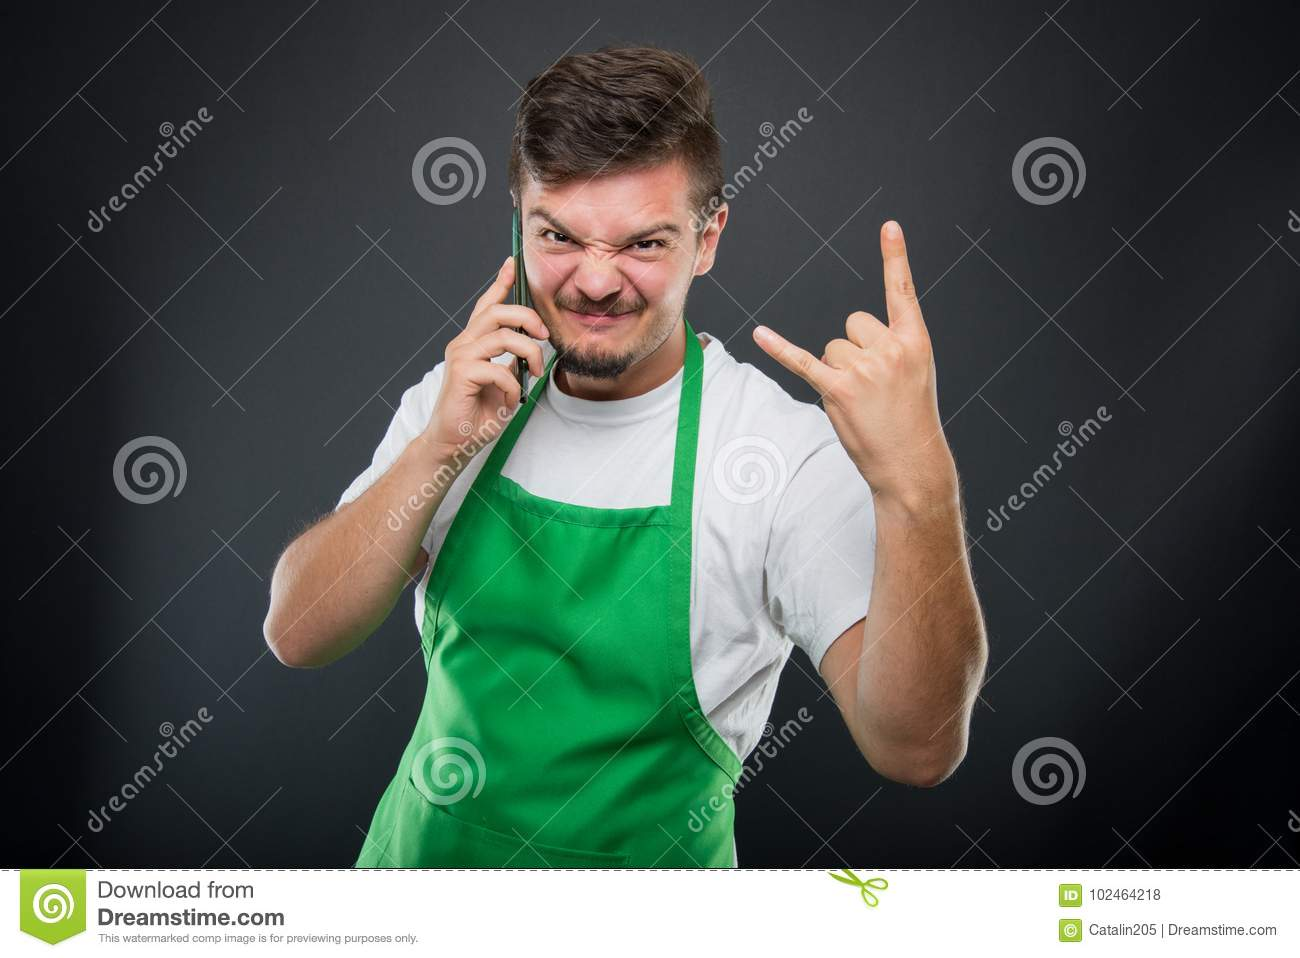phone: (502, 200, 541, 410)
talk: (424, 196, 685, 459)
